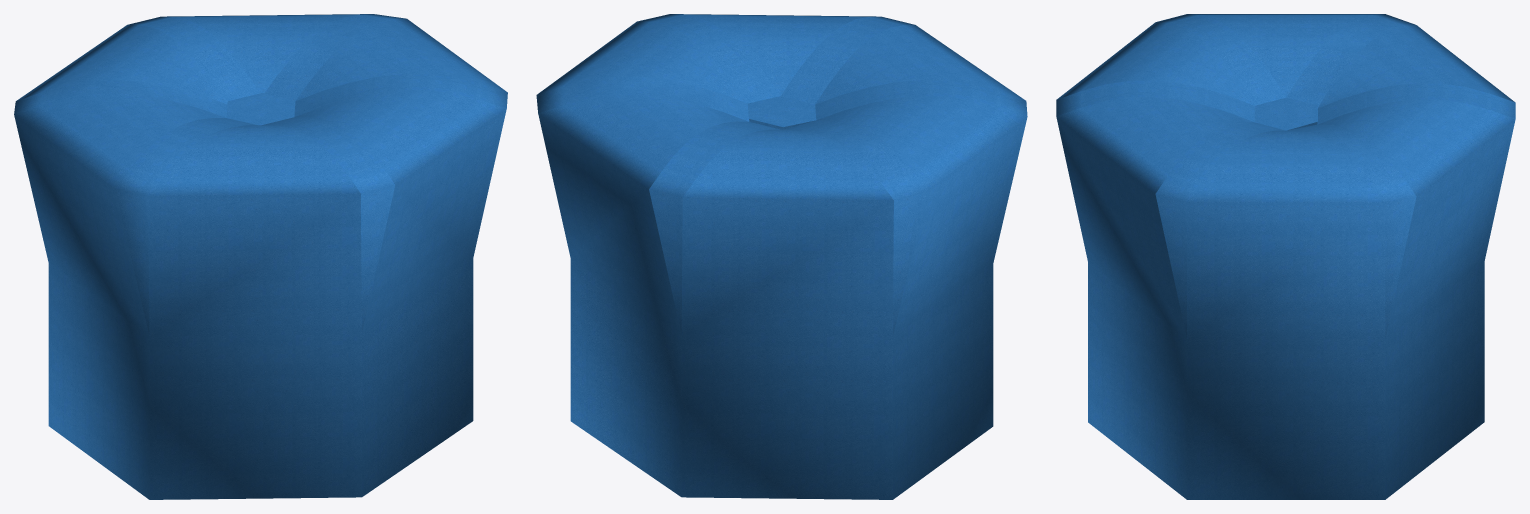
File: hat 5.dae
The picture shows the model from 3 angles, left to right: view 1: azimuth 30°, elevation 25°; view 2: azimuth 150°, elevation 25°; view 3: azimuth 270°, elevation 25°; orthographic projection.
Parts seen in each view (by area): view 1: instance_0; view 2: instance_0; view 3: instance_0.
Part boxes in pixels (<box>): instance_0: <box>14,14,507,499</box>; instance_0: <box>536,14,1027,499</box>; instance_0: <box>1056,14,1515,499</box>.
Size of the model in its own units: 0.3224 by 0.3323 by 0.2707.
1 material, 1 textured.
